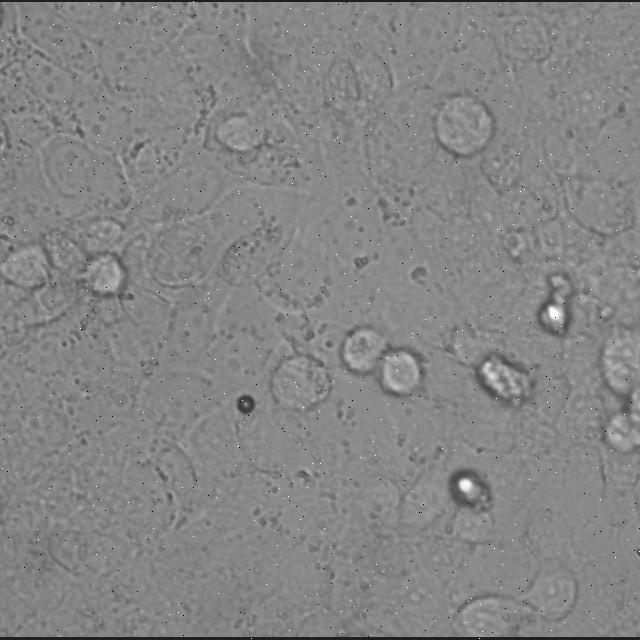microbeads: (237, 392, 255, 418)
